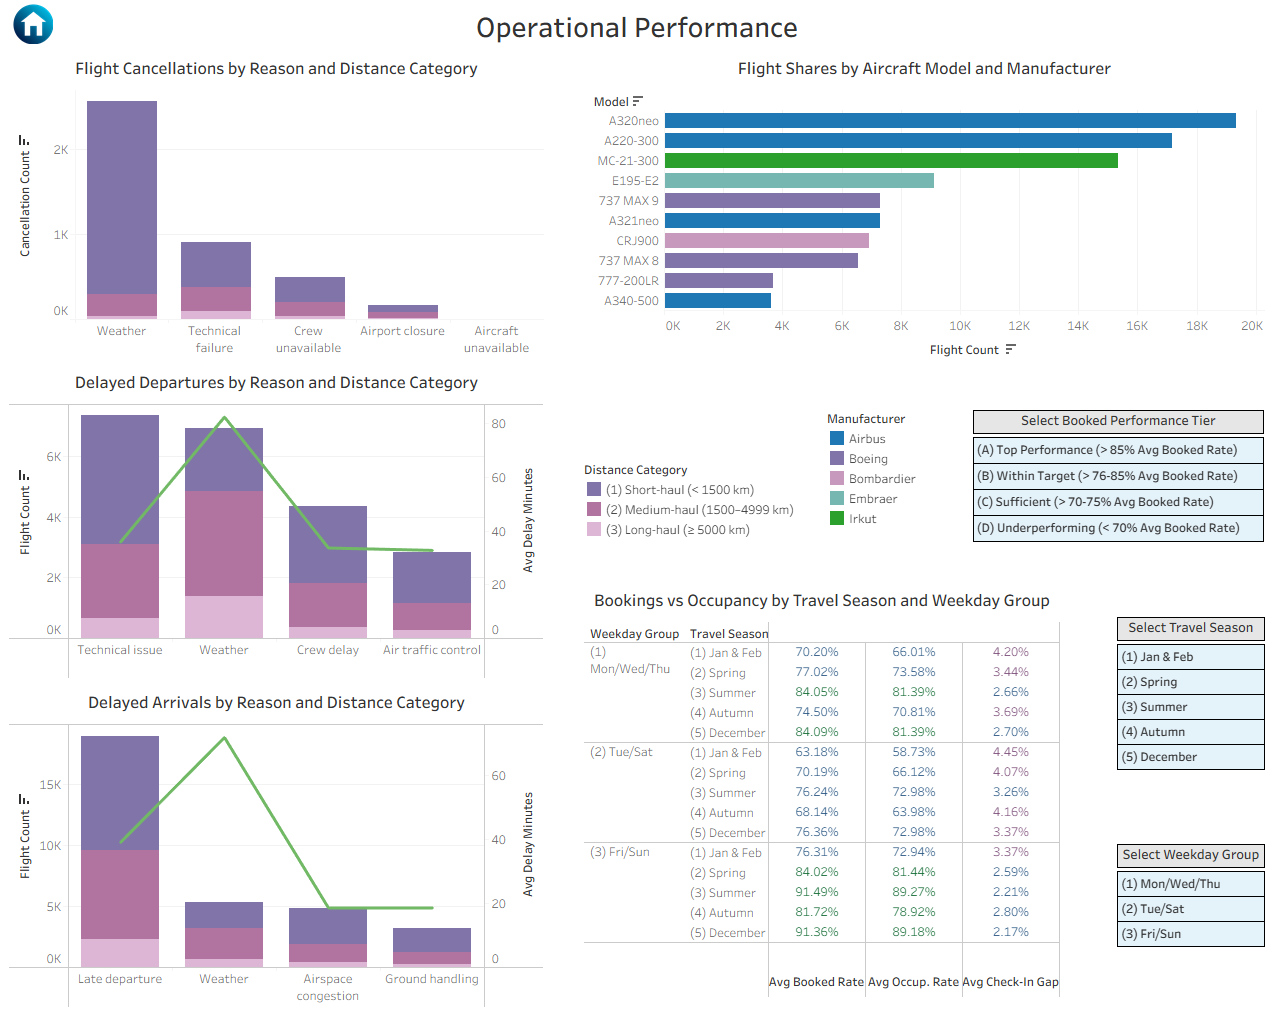

The page's visual inventory and layout, read from the dashboard file:
{"tool":"tableau","page":{"name":"(3) Operational Performance","canvas":[650,860],"ordinal":2},"visuals":[{"type":"worksheet","title":"3.1 Aircraft Shares Bars","mark":"Automatic","rows":["model"],"cols":["flight_count (aircraft_usage.csv)"],"box":[8,8,237,422]},{"type":"worksheet","title":"3.2 Bookings vs Occupancy Heatmap","mark":"Automatic","rows":["weekday_group","travel_season"],"cols":["Calculation_1457693312995331","Calculation_1457693313232900","Calculation_1457693313507333"],"box":[245,8,237,211]},{"type":"legend","title":"3.3 Cancellations Bars","param":"[federated.192agi6082b27y1g0wheh0zylxcd].[none:distance_category:nk]","box":[482,8,160,86]},{"type":"worksheet","title":"Weekday Group Slicer","mark":"Automatic","rows":["weekday_group"],"box":[482,94,160,111]},{"type":"worksheet","title":"Travel Season Slicer","mark":"Automatic","rows":["travel_season"],"box":[482,205,160,161]},{"type":"worksheet","title":"3.4 Departure Delay Bars","mark":"Automatic","rows":["flight_count (flight_delays.csv)","avg_delay_minutes"],"cols":["delay_reason_dep"],"box":[245,219,237,211]},{"type":"legend","title":"3.1 Aircraft Shares Bars","param":"[federated.192agi6082b27y1g0wheh0zylxcd].[none:manufacturer:nk]","box":[482,366,160,126]},{"type":"worksheet","title":"3.3 Cancellations Bars","mark":"Automatic","rows":["cancellation_count"],"cols":["cancellation_reason"],"box":[8,430,237,422]},{"type":"worksheet","title":"3.5 Arrival Delay Bars","mark":"Automatic","rows":["flight_count (flight_delays.csv)","avg_delay_minutes"],"cols":["delay_reason_arr"],"box":[245,430,237,422]},{"type":"legend","title":"3.5 Arrival Delay Bars","param":"[federated.192agi6082b27y1g0wheh0zylxcd].[none:distance_category:nk]\n[federated.","box":[482,492,160,86]},{"type":"legend","title":"3.2 Bookings vs Occupancy Heatmap","param":"[federated.192agi6082b27y1g0wheh0zylxcd].[Multiple Values]","box":[482,578,160,22]},{"type":"worksheet","title":"Booked Tier Slicer","mark":"Automatic","rows":["booked_performance_tier"],"box":[482,600,160,175]}]}

Visuals, with their boxes on the page's 650x860 design canvas (x1, y1, x2, y2). These are canvas units, not pixel positions in the 1273x1017 screenshot, which may show the page scaled, cropped or inside an application window:
"3.1 Aircraft Shares Bars" worksheet: locate(8, 8, 245, 430)
"3.2 Bookings vs Occupancy Heatmap" worksheet: locate(245, 8, 482, 219)
"3.3 Cancellations Bars" legend: locate(482, 8, 642, 94)
"Weekday Group Slicer" worksheet: locate(482, 94, 642, 205)
"Travel Season Slicer" worksheet: locate(482, 205, 642, 366)
"3.4 Departure Delay Bars" worksheet: locate(245, 219, 482, 430)
"3.1 Aircraft Shares Bars" legend: locate(482, 366, 642, 492)
"3.3 Cancellations Bars" worksheet: locate(8, 430, 245, 852)
"3.5 Arrival Delay Bars" worksheet: locate(245, 430, 482, 852)
"3.5 Arrival Delay Bars" legend: locate(482, 492, 642, 578)
"3.2 Bookings vs Occupancy Heatmap" legend: locate(482, 578, 642, 600)
"Booked Tier Slicer" worksheet: locate(482, 600, 642, 775)
